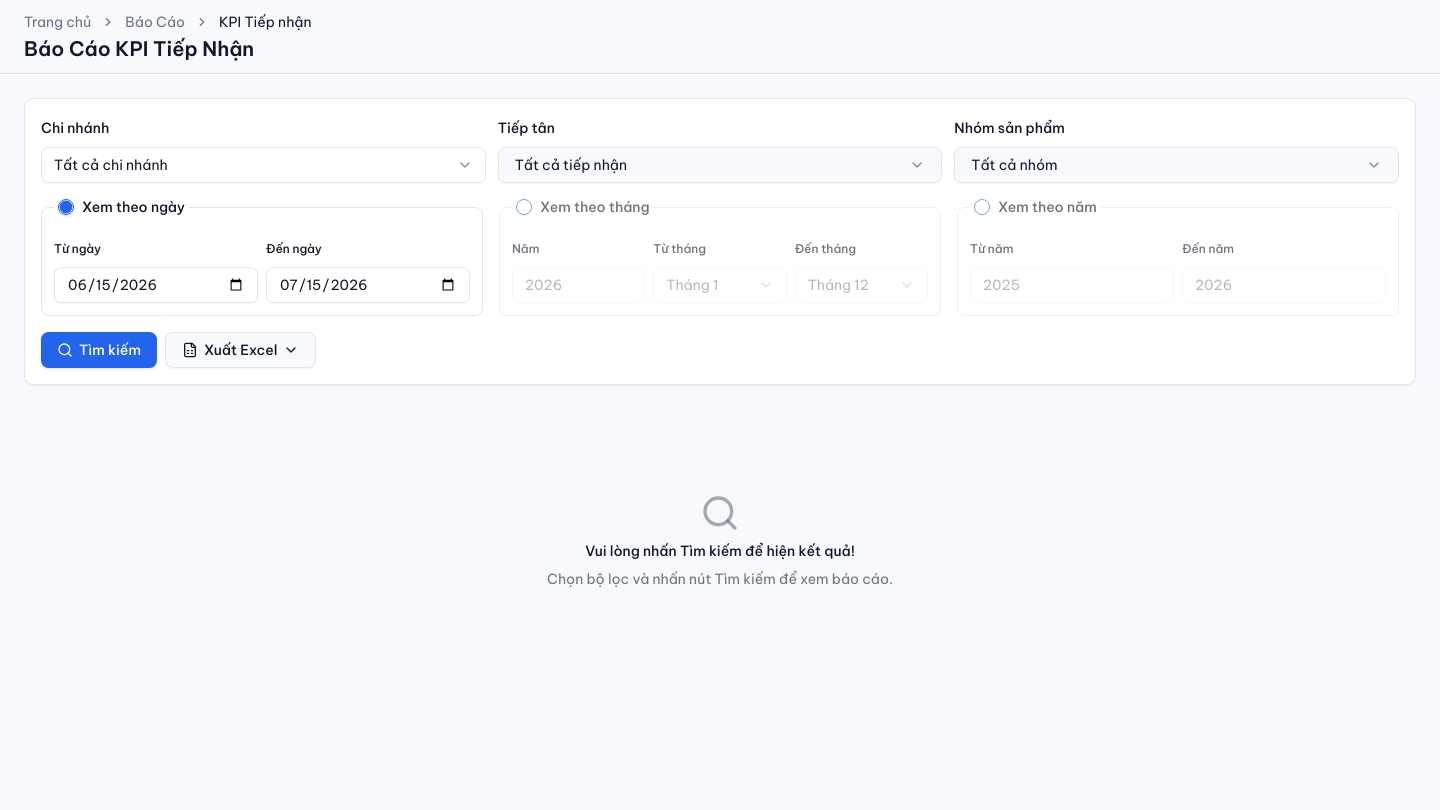
Test: KpiTiepNhanReportPage › renders a single Xuất Excel File export (no Lương / 1 Ngày variants)
What coordinates should you click on to do the following:
click the button "Xuất Excel"
I would click on:
 (241, 350)
Its box is [165,332,316,368].
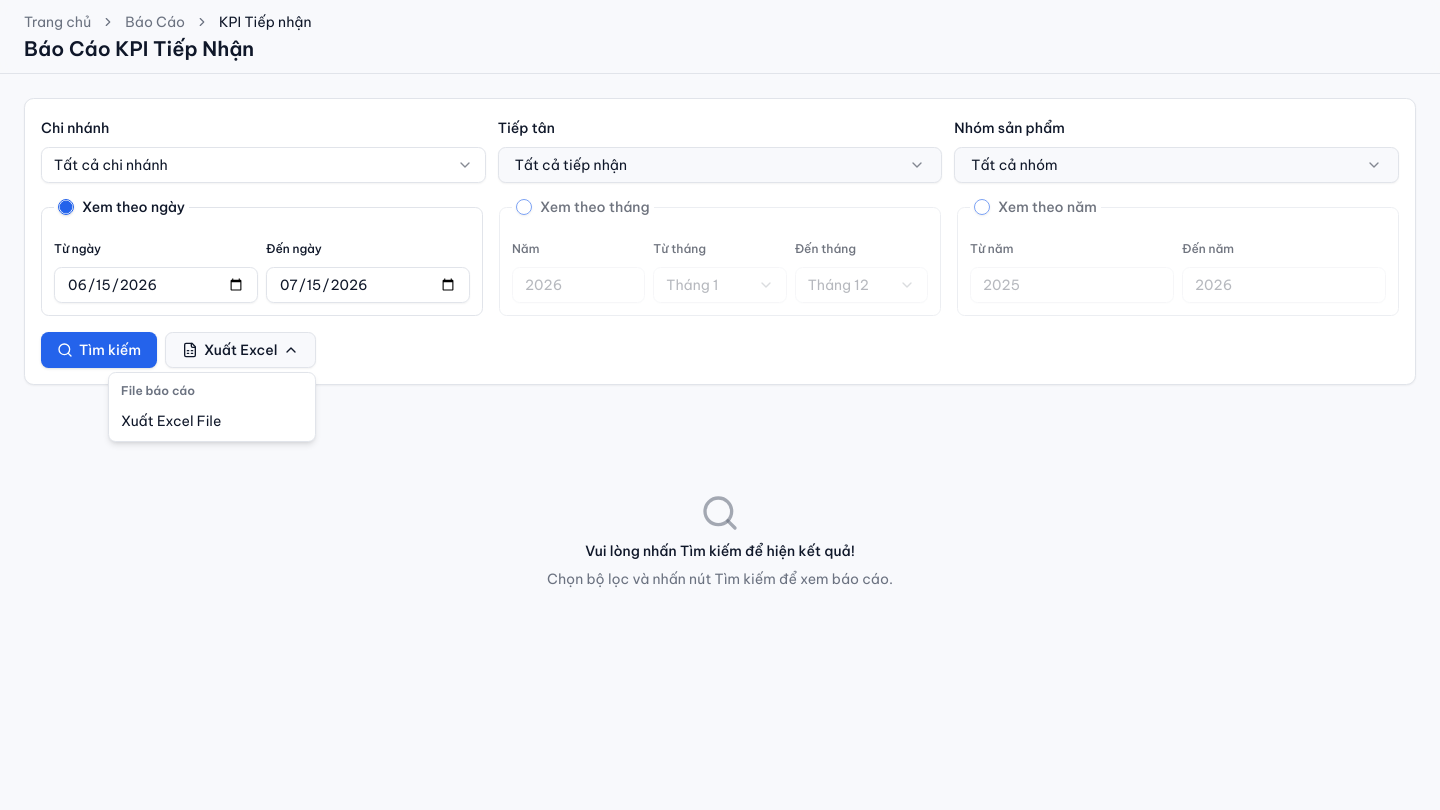
Now the menu item "Xuất Excel File" is shown, box [121,412,221,430]
